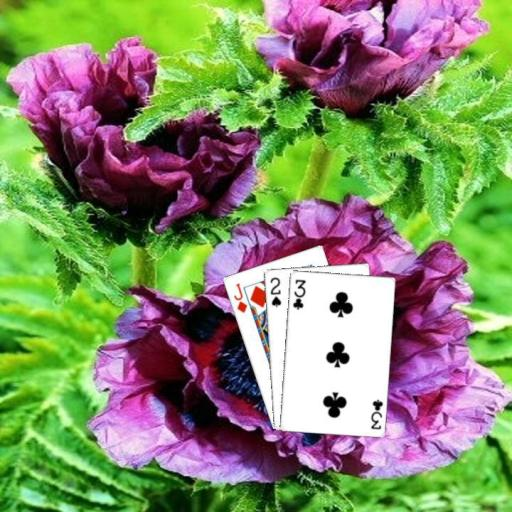2S: (267, 274, 282, 308)
3C: (290, 276, 307, 311), (368, 396, 384, 430)
JD: (231, 280, 249, 314)
